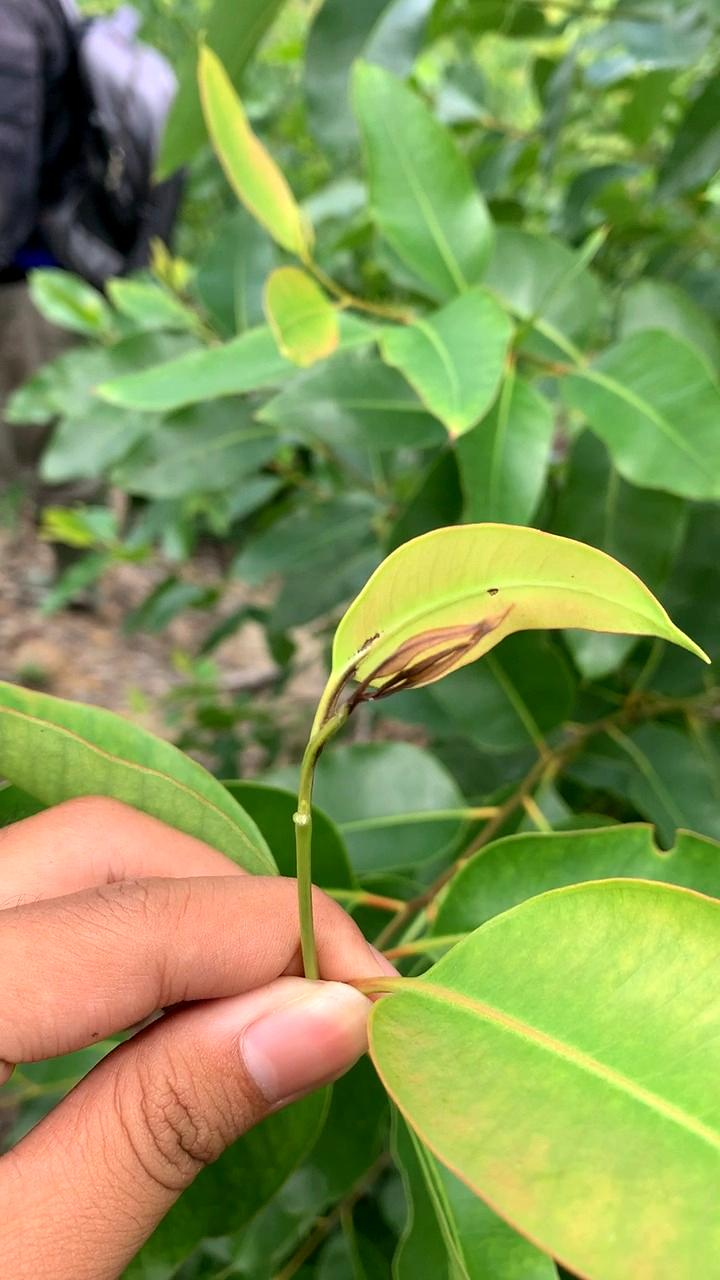Helopeltis-Withered Sprout: (340, 598, 521, 707)
